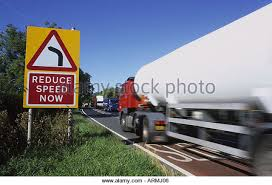Bend_to_left: (26, 29, 78, 73)
